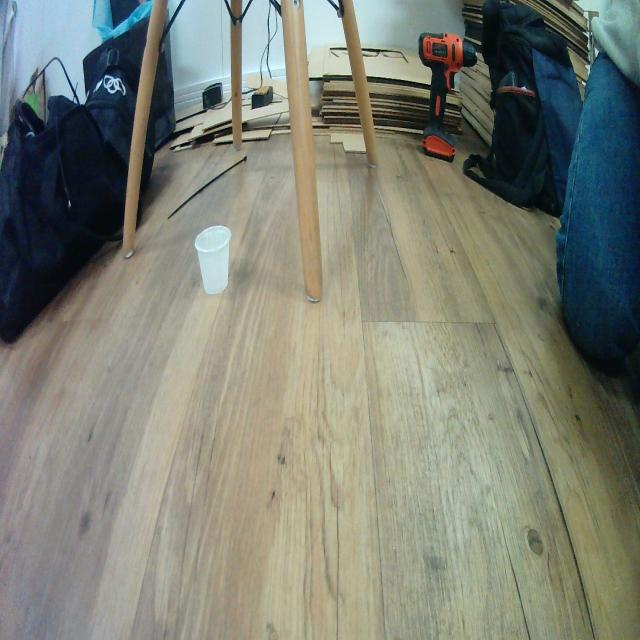planta: (194, 225, 232, 296)
